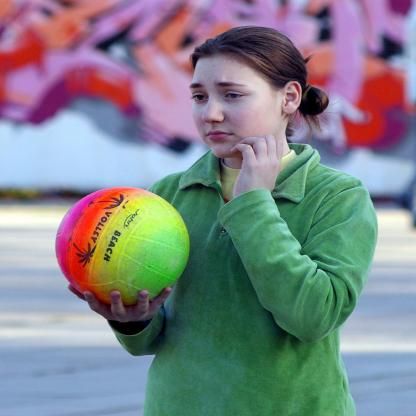Ball: (52, 186, 191, 309)
